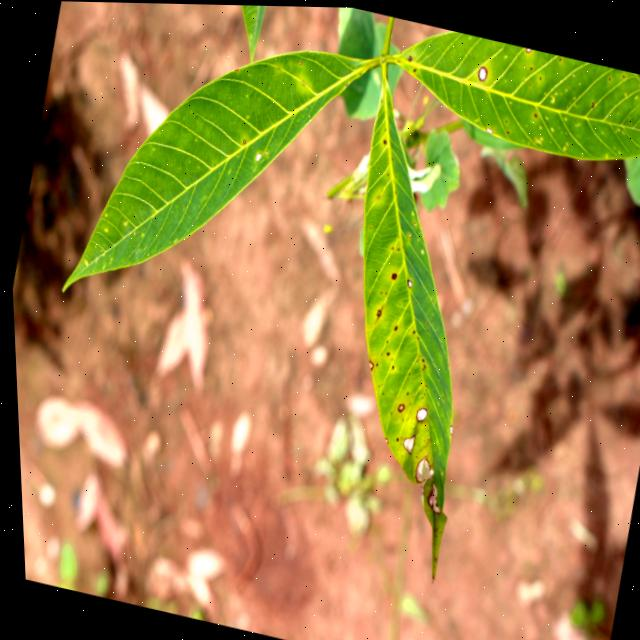Colletotrichum: (411, 404, 424, 421), (475, 63, 488, 79), (393, 401, 401, 410), (402, 277, 410, 286), (253, 151, 260, 160), (373, 307, 378, 315), (389, 271, 394, 278), (524, 45, 530, 50), (263, 148, 267, 154), (391, 436, 395, 440), (383, 350, 386, 354), (418, 357, 421, 361), (419, 362, 422, 366), (241, 139, 244, 143)
